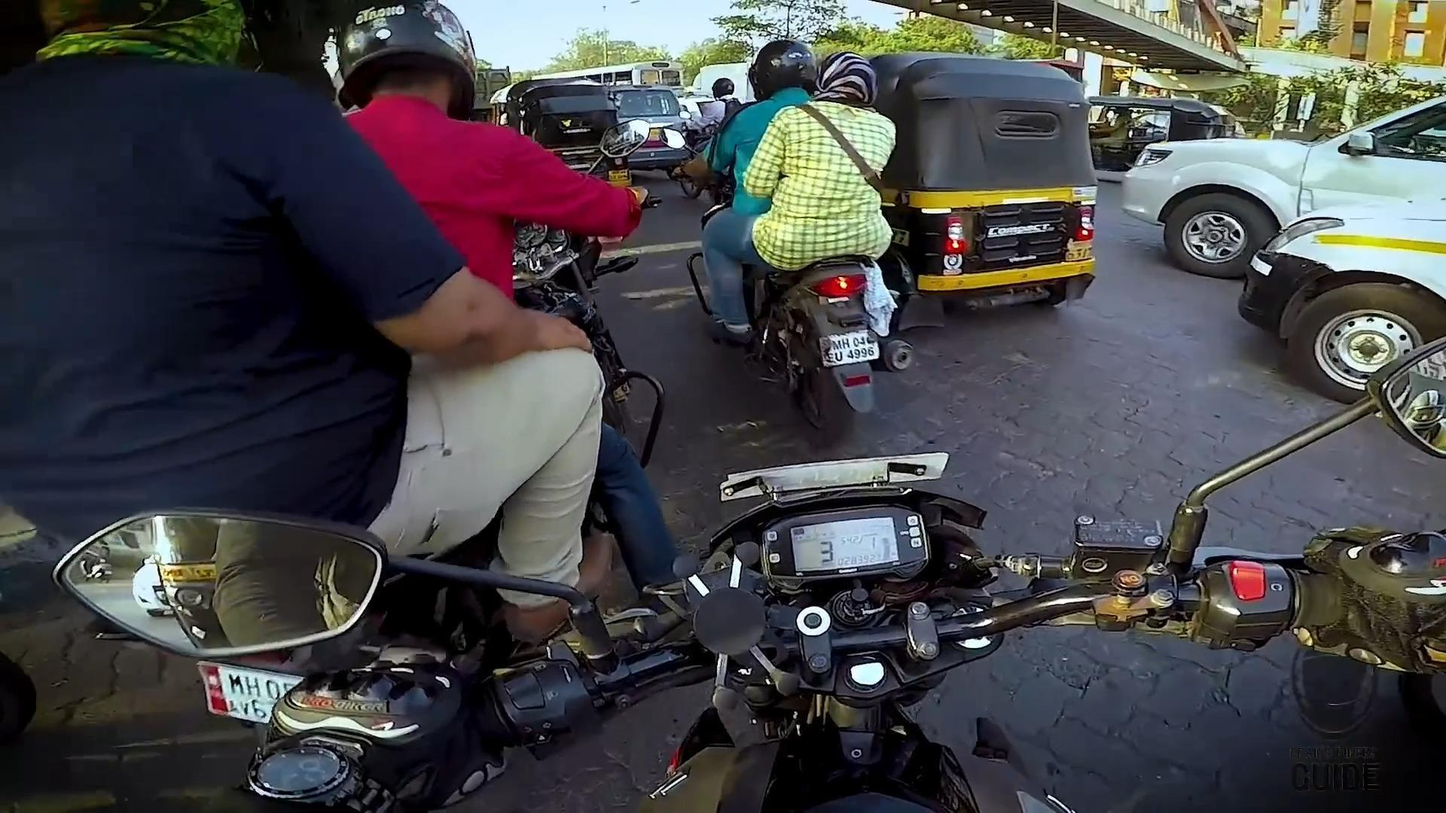Helmet: (333, 0, 482, 117), (741, 32, 823, 111)
bike: (206, 115, 666, 731), (655, 118, 917, 430)
no-helmet: (807, 41, 883, 117)
number-plate: (813, 324, 883, 366)
rider: (0, 0, 613, 627), (310, 0, 671, 590), (696, 44, 916, 346), (676, 36, 824, 224)
